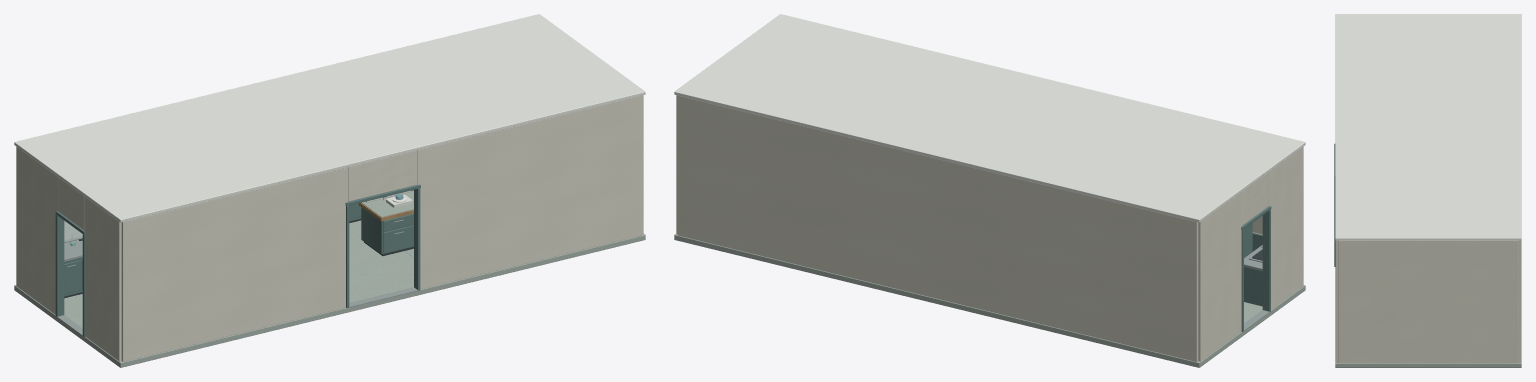
The model's file is room.glb.
3 renders of one model, left to right at view 1: azimuth 30°, elevation 25°; view 2: azimuth 150°, elevation 25°; view 3: azimuth 270°, elevation 25°, orthographic. The views are drawn at different scales.
Visible parts, largest first — view 1: Interior.SouthShell.Research_mineral_plaster, Interior.ResearchRoof, Interior.WestShell.Research_mineral_plaster, Interior.ResearchFloor, Interior.experiment-island-east.Research_teal_gray_enamel, Interior.WestShell.Research_teal_gray_enamel, Interior.SouthShell.Research_teal_gray_enamel, Interior.fume-hood.Research_teal_gray_enamel, Interior.EpoxyWorkSurface.001; view 2: Interior.LaboratoryWall, Interior.ResearchRoof, Interior.WestShell.Research_mineral_plaster, Interior.ResearchFloor, Interior.WestShell.Research_teal_gray_enamel, Interior.WashStand; view 3: Interior.ResearchRoof, Interior.LaboratoryWall.005, Interior.ResearchFloor, Interior.LaboratoryWall, Interior.SouthShell.Research_mineral_plaster, Interior.SouthShell.Research_teal_gray_enamel.
Part boxes in pixels (<box>): Interior.SouthShell.Research_mineral_plaster: <box>121,95,642,361</box>; Interior.ResearchRoof: <box>14,14,645,222</box>; Interior.WestShell.Research_mineral_plaster: <box>16,146,121,361</box>; Interior.ResearchFloor: <box>14,220,645,367</box>; Interior.experiment-island-east.Research_teal_gray_enamel: <box>361,207,413,254</box>; Interior.WestShell.Research_teal_gray_enamel: <box>55,211,85,336</box>; Interior.SouthShell.Research_teal_gray_enamel: <box>345,184,420,307</box>; Interior.fume-hood.Research_teal_gray_enamel: <box>64,257,82,296</box>; Interior.EpoxyWorkSurface.001: <box>361,191,413,217</box>; Interior.LaboratoryWall: <box>677,95,1198,361</box>; Interior.ResearchRoof: <box>674,14,1305,222</box>; Interior.WestShell.Research_mineral_plaster: <box>1198,146,1303,361</box>; Interior.ResearchFloor: <box>674,233,1305,367</box>; Interior.WestShell.Research_teal_gray_enamel: <box>1241,206,1271,331</box>; Interior.WashStand: <box>1244,266,1262,306</box>; Interior.ResearchRoof: <box>1335,14,1521,240</box>; Interior.LaboratoryWall.005: <box>1338,240,1518,363</box>; Interior.ResearchFloor: <box>1335,240,1521,367</box>; Interior.LaboratoryWall: <box>1518,240,1520,362</box>; Interior.SouthShell.Research_mineral_plaster: <box>1335,240,1337,362</box>; Interior.SouthShell.Research_teal_gray_enamel: <box>1334,143,1335,266</box>.
Bounding box in the file's own units: 12.96 × 3.49 × 4.56.
23 materials, 7 textured.
